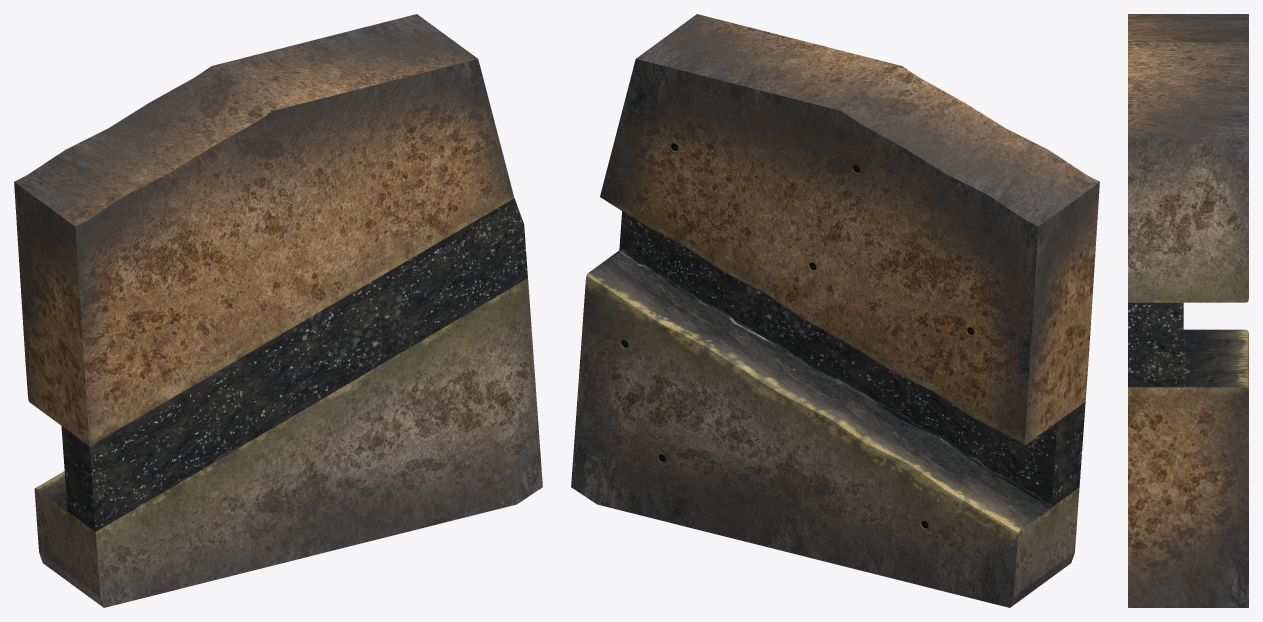
The model's file is Slope18.glb.
The picture shows the model from 3 angles, left to right: view 1: azimuth 30°, elevation 25°; view 2: azimuth 150°, elevation 25°; view 3: azimuth 270°, elevation 25°; orthographic projection.
Parts seen in each view (by area): view 1: Slope18; view 2: Slope18; view 3: Slope18.
Part boxes in pixels (left/top/right/bottom): Slope18: left=14, top=14, right=542, bottom=607; Slope18: left=571, top=14, right=1099, bottom=607; Slope18: left=1128, top=14, right=1248, bottom=607.
Bounding box in the file's own units: 2.53 × 2.37 × 0.5754.
1 material, 1 textured.
